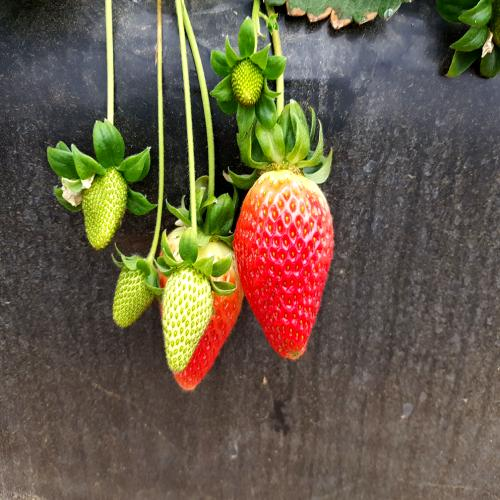ripe: (232, 152, 345, 372)
